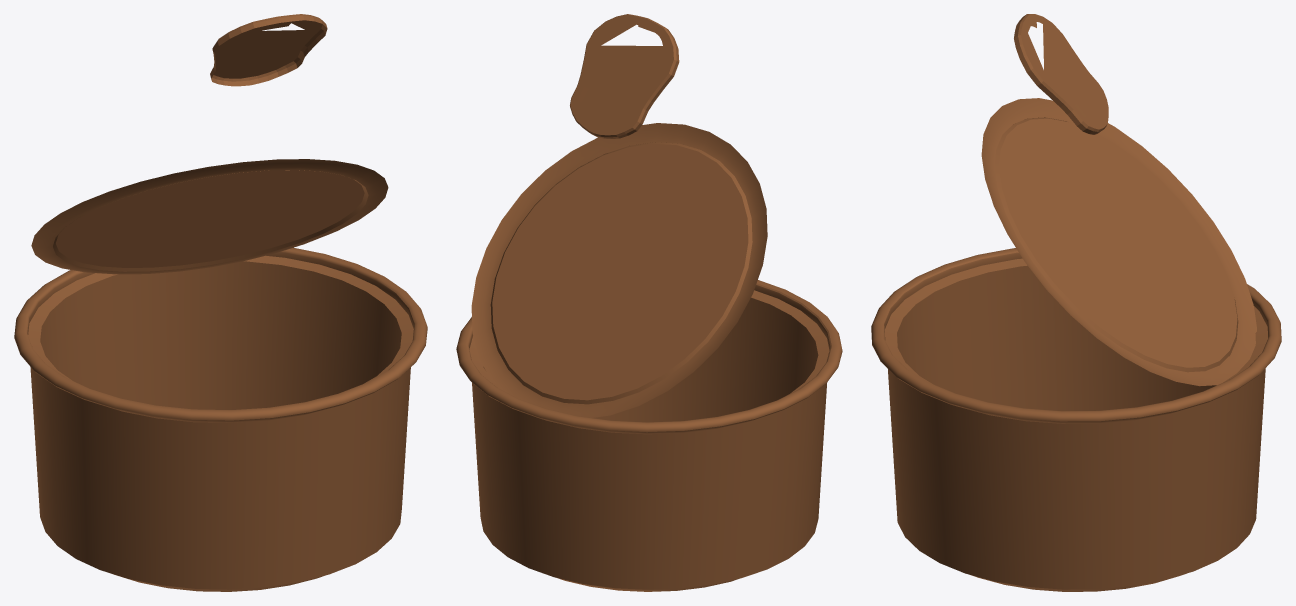
Rendered from БАНКА КОНСЕРВНАЯ.fbx.
3 renders of one model, left to right at view 1: azimuth 30°, elevation 25°; view 2: azimuth 150°, elevation 25°; view 3: azimuth 270°, elevation 25°, orthographic. The views are drawn at different scales.
Parts seen in each view (by area): view 1: Цилиндр.021; view 2: Цилиндр.021; view 3: Цилиндр.021.
Boxes of the visible parts, left/top/right/bottom form: Цилиндр.021: left=14, top=14, right=427, bottom=591; Цилиндр.021: left=456, top=14, right=842, bottom=591; Цилиндр.021: left=871, top=14, right=1281, bottom=591.
Size of the model in its own units: 94.06 by 131 by 94.06.
